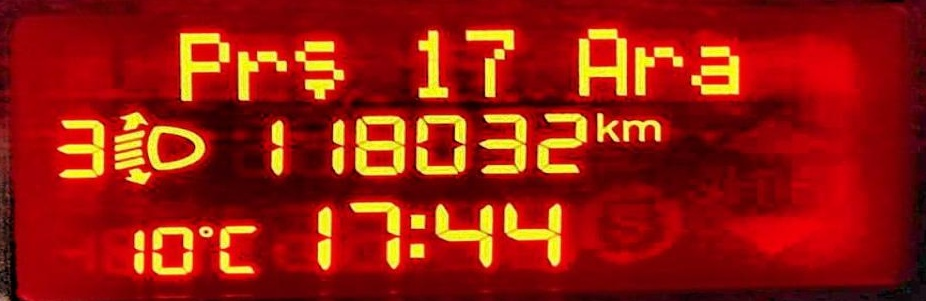0: (413, 110, 469, 177), (151, 224, 195, 277)
1: (413, 26, 453, 105), (260, 112, 292, 182), (310, 200, 336, 276), (326, 111, 346, 181), (129, 225, 148, 274)
2: (537, 108, 586, 178)
3: (51, 113, 108, 186), (478, 109, 526, 180)
4: (503, 198, 567, 269), (433, 199, 496, 267)
7: (461, 25, 520, 100), (347, 197, 400, 267)
8: (354, 111, 408, 175)
X: (573, 26, 630, 98), (293, 36, 353, 104), (174, 26, 227, 102), (235, 42, 289, 103), (688, 43, 741, 101), (630, 42, 682, 96), (216, 221, 260, 276), (621, 114, 663, 146), (403, 207, 427, 263), (594, 108, 618, 145)
